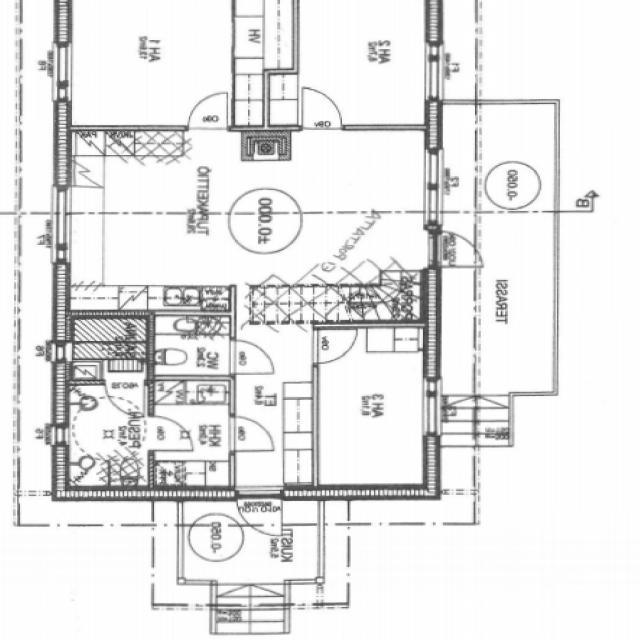door: (236, 486, 281, 540), (424, 232, 481, 267), (229, 417, 274, 452), (312, 329, 357, 364), (148, 418, 193, 452), (302, 92, 341, 131), (229, 341, 273, 375), (105, 381, 144, 419), (188, 92, 226, 131)
